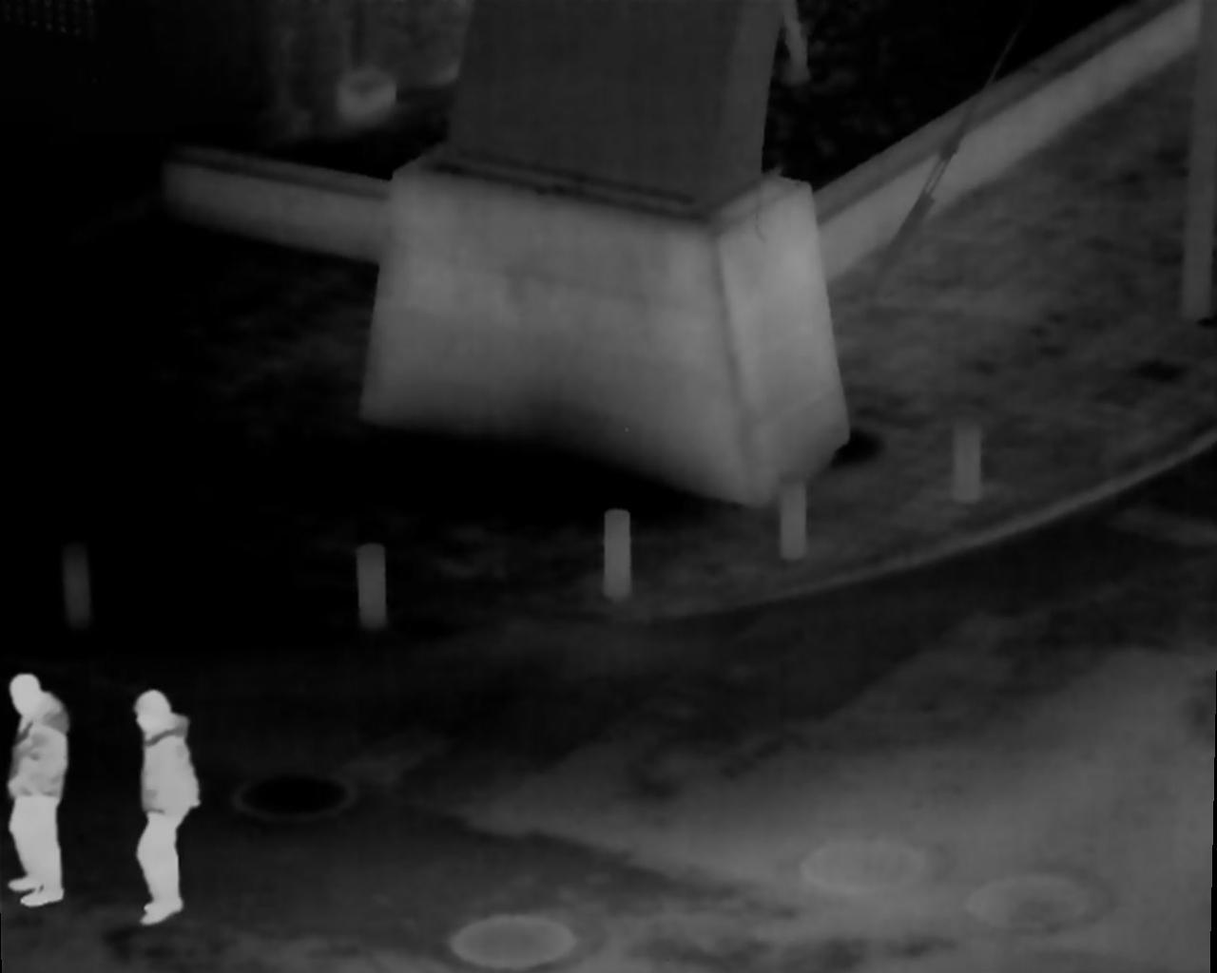person: (133, 688, 202, 929), (10, 676, 70, 911)
